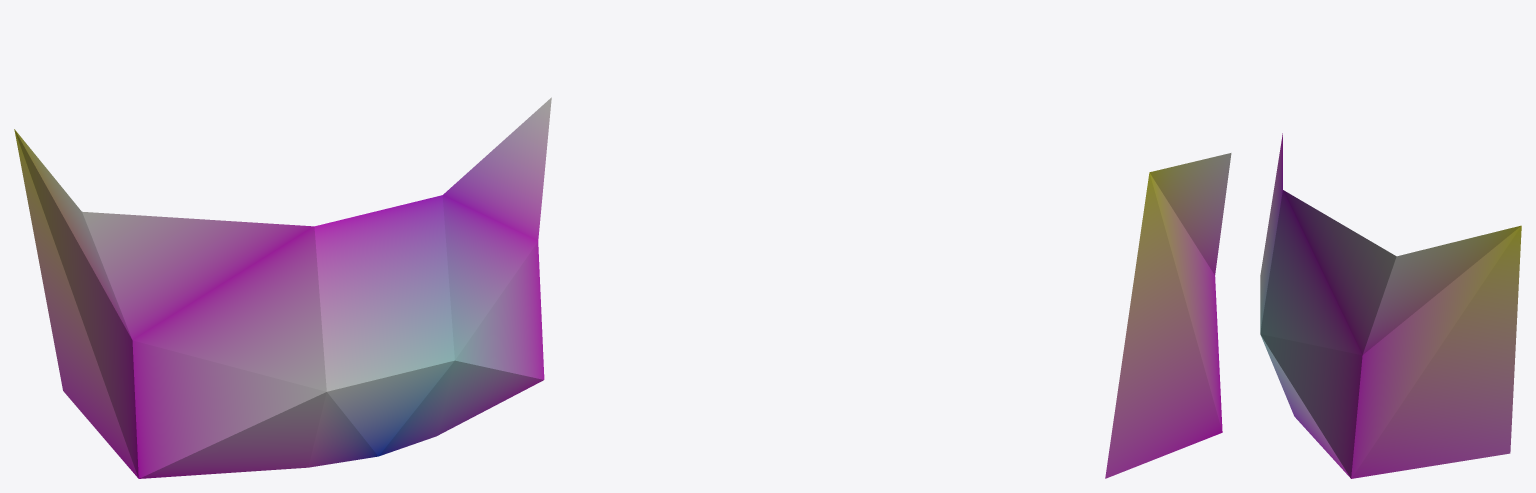
3 renders of one model, left to right at view 1: azimuth 30°, elevation 25°; view 2: azimuth 150°, elevation 25°; view 3: azimuth 270°, elevation 25°, orthographic. The views are drawn at different scales.
Parts seen in each view (by area): view 1: model_115A; view 2: model_115A; view 3: model_115A.
Part boxes in pixels (x1,y1,x2,y2): model_115A: (14, 97, 551, 478); model_115A: (1105, 153, 1231, 478); model_115A: (1260, 133, 1521, 478).
Bounding box in the file's own units: 44 × 26 × 23.
